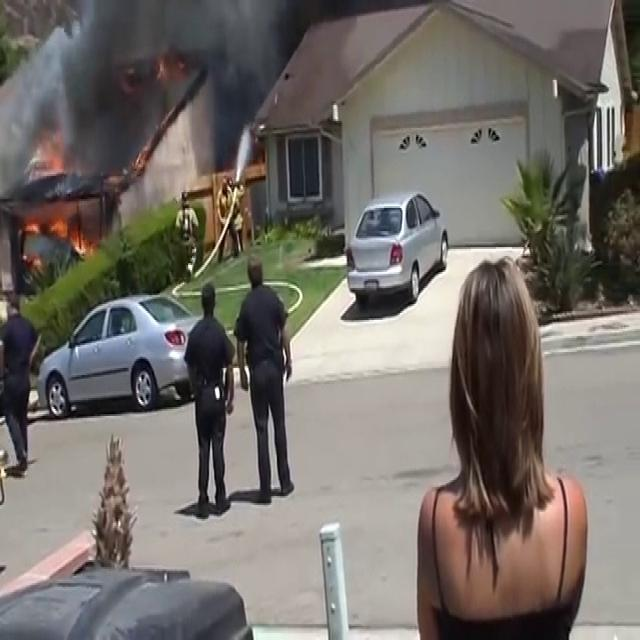Fire: (16, 194, 95, 272)
Smoke: (23, 0, 292, 178)
